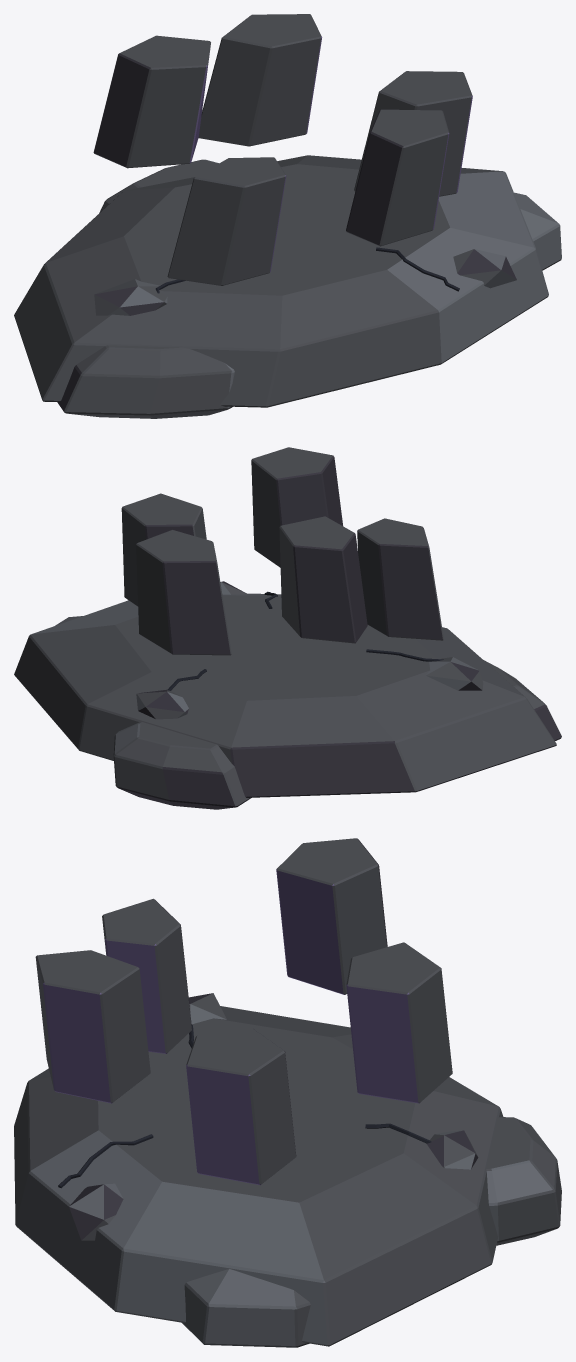
File: BH_ORE_O19_Fragmento_Vazio_V02.glb
The picture shows the model from 3 angles, top to bottom: view 1: azimuth 30°, elevation 25°; view 2: azimuth 150°, elevation 25°; view 3: azimuth 270°, elevation 25°; orthographic projection. The views are drawn at different scales.
Visible parts, largest first — view 1: Bedrock | primary.003, Anomaly block 2.003, Anomaly block 3.003, Anomaly block 4.003, Bedrock | shoulder 1.003, Anomaly block 5.003, Anomaly block 1.003, O19 | V02 embedded stone ledge.004, Bedrock | shoulder 2.003, O19 | V02 embedded stone ledge.005, Bedrock | shoulder 3.003; view 2: Bedrock | primary.003, Anomaly block 2.003, Anomaly block 3.003, Bedrock | shoulder 3.003, Anomaly block 4.003, Anomaly block 5.003, Anomaly block 1.003, O19 | V02 embedded stone ledge.004, O19 | V02 embedded stone ledge.003, Bedrock | shoulder 1.003; view 3: Bedrock | primary.003, Anomaly block 5.003, Anomaly block 1.003, Anomaly block 2.003, Anomaly block 3.003, Anomaly block 4.003, Bedrock | shoulder 2.003, Bedrock | shoulder 3.003, O19 | V02 embedded stone ledge.005, O19 | V02 embedded stone ledge.003, O19 | V02 embedded stone ledge.004.
Part boxes in pixels (bbox=[...]): Bedrock | primary.003: bbox=[14, 155, 548, 407]; Anomaly block 2.003: bbox=[198, 14, 322, 146]; Anomaly block 3.003: bbox=[93, 35, 210, 168]; Anomaly block 4.003: bbox=[167, 157, 286, 285]; Bedrock | shoulder 1.003: bbox=[57, 345, 234, 418]; Anomaly block 5.003: bbox=[346, 109, 449, 246]; Anomaly block 1.003: bbox=[354, 71, 472, 196]; O19 | V02 embedded stone ledge.004: bbox=[94, 279, 167, 315]; Bedrock | shoulder 2.003: bbox=[514, 192, 561, 270]; O19 | V02 embedded stone ledge.005: bbox=[453, 249, 516, 288]; Bedrock | shoulder 3.003: bbox=[99, 159, 218, 213]; Bedrock | primary.003: bbox=[14, 593, 556, 797]; Anomaly block 2.003: bbox=[136, 530, 231, 655]; Anomaly block 3.003: bbox=[279, 516, 367, 643]; Bedrock | shoulder 3.003: bbox=[113, 722, 251, 809]; Anomaly block 4.003: bbox=[357, 518, 443, 640]; Anomaly block 5.003: bbox=[251, 447, 342, 567]; Anomaly block 1.003: bbox=[121, 493, 206, 606]; O19 | V02 embedded stone ledge.004: bbox=[426, 657, 483, 690]; O19 | V02 embedded stone ledge.003: bbox=[136, 689, 188, 719]; Bedrock | shoulder 1.003: bbox=[484, 660, 561, 740]; Bedrock | primary.003: bbox=[14, 1006, 503, 1346]; Anomaly block 5.003: bbox=[35, 950, 150, 1103]; Anomaly block 1.003: bbox=[186, 1028, 296, 1185]; Anomaly block 2.003: bbox=[346, 942, 452, 1103]; Anomaly block 3.003: bbox=[276, 838, 387, 994]; Anomaly block 4.003: bbox=[102, 898, 191, 1053]; Bedrock | shoulder 2.003: bbox=[182, 1269, 310, 1347]; Bedrock | shoulder 3.003: bbox=[486, 1117, 561, 1245]; O19 | V02 embedded stone ledge.005: bbox=[69, 1183, 123, 1240]; O19 | V02 embedded stone ledge.003: bbox=[427, 1130, 478, 1169]; O19 | V02 embedded stone ledge.004: bbox=[188, 993, 226, 1024].
Size of the model in its own units: 3.14 by 1.47 by 2.33.
